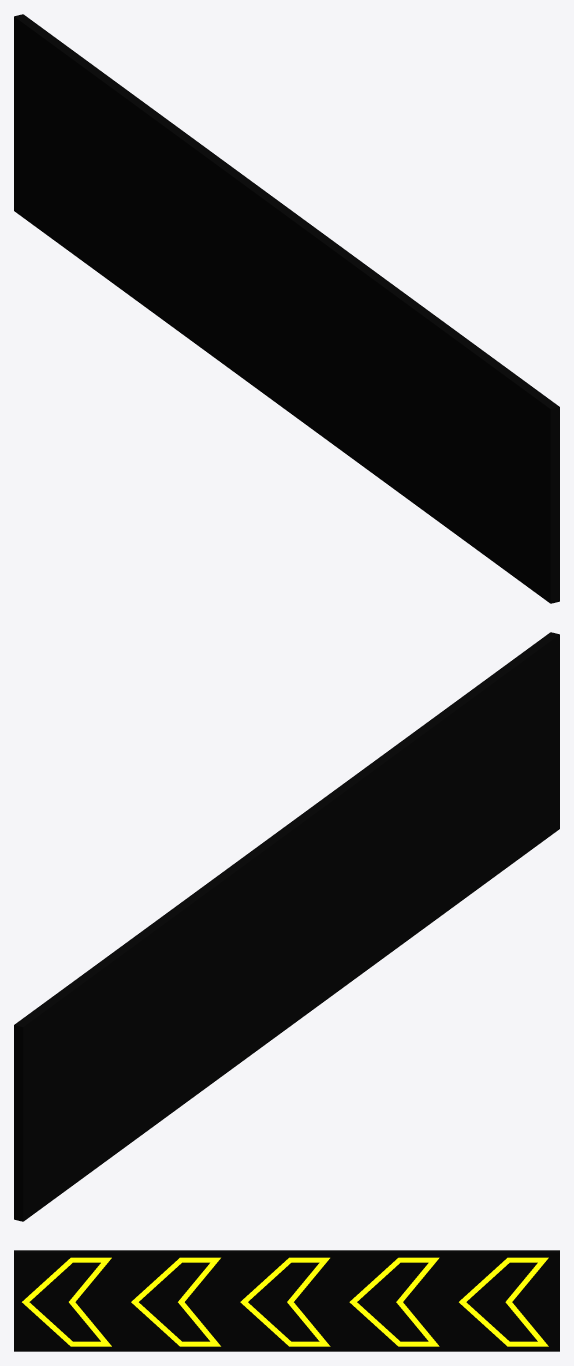
Rendered from WallMovePart.fbx.
3 renders of one model, top to bottom at view 1: azimuth 30°, elevation 25°; view 2: azimuth 150°, elevation 25°; view 3: azimuth 270°, elevation 25°, orthographic. The views are drawn at different scales.
Visible parts, largest first — view 1: Plane; view 2: Plane; view 3: Plane.
Boxes of the visible parts, bbox=[...] form: Plane: bbox=[14, 14, 559, 603]; Plane: bbox=[14, 632, 559, 1221]; Plane: bbox=[14, 1250, 559, 1351].
Size of the model in its own units: 10 by 200 by 1000.
